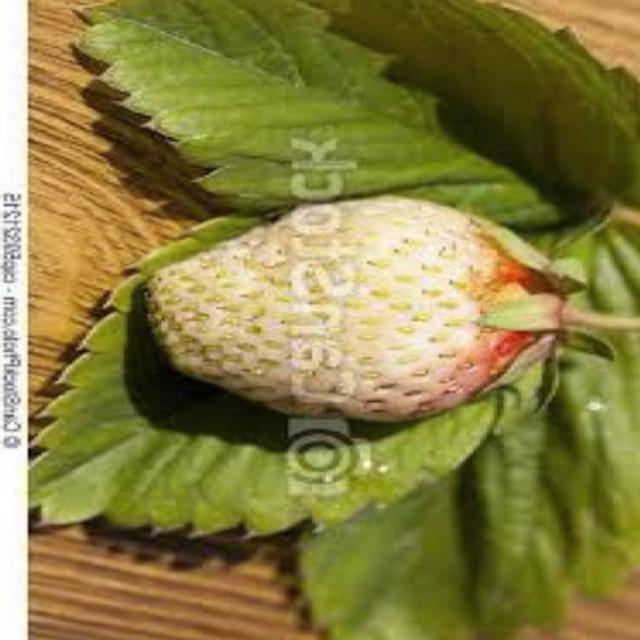Healthy Fruit: (137, 193, 568, 424)
